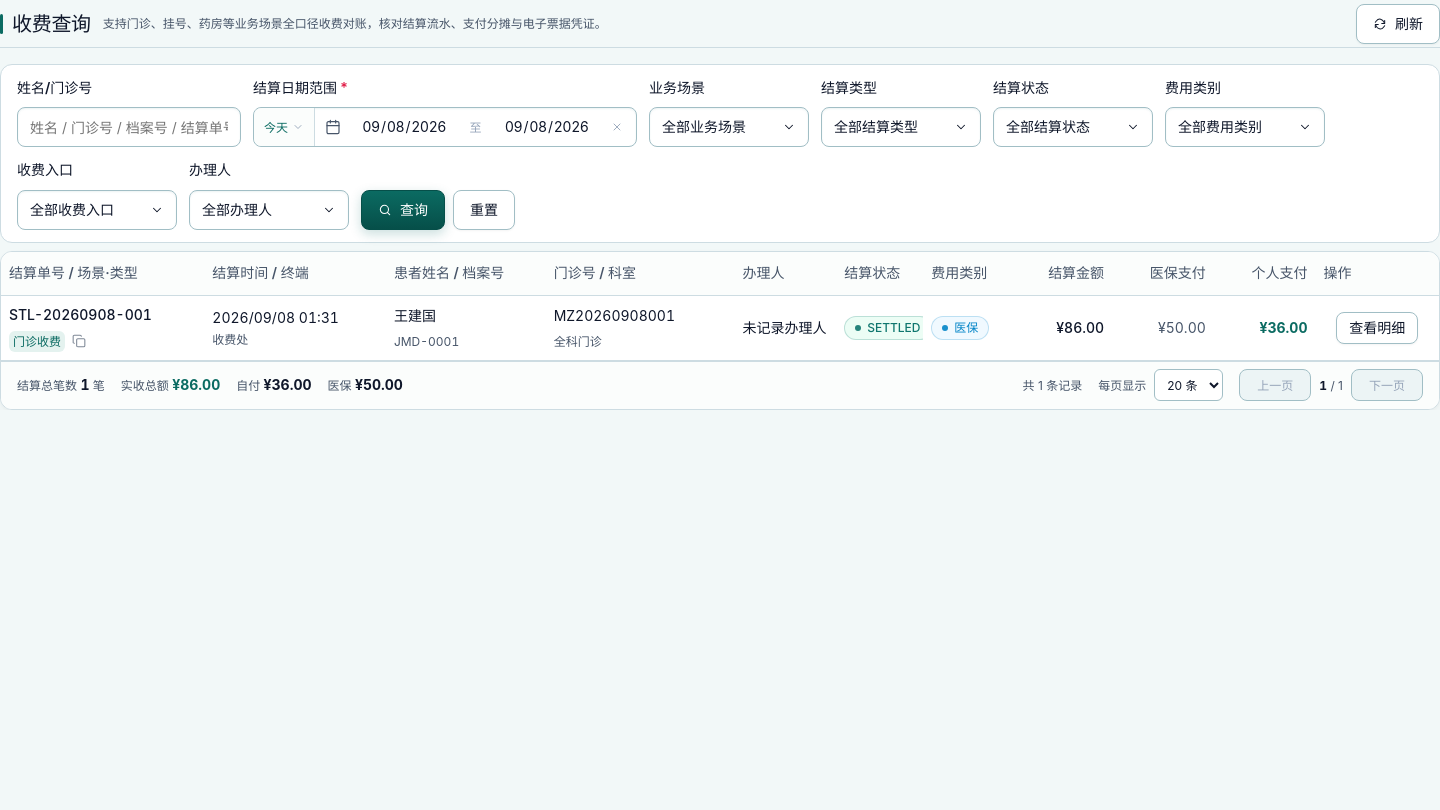
it: BillingQueryWorkspace › distinguishes settlement query failure from empty financial detail
What coordinates should you click on to do the following:
click the button with aria-label "结算记录 STL-20260908-001"
I would click on:
 (80, 315)
Its box is [1,296,1439,360].
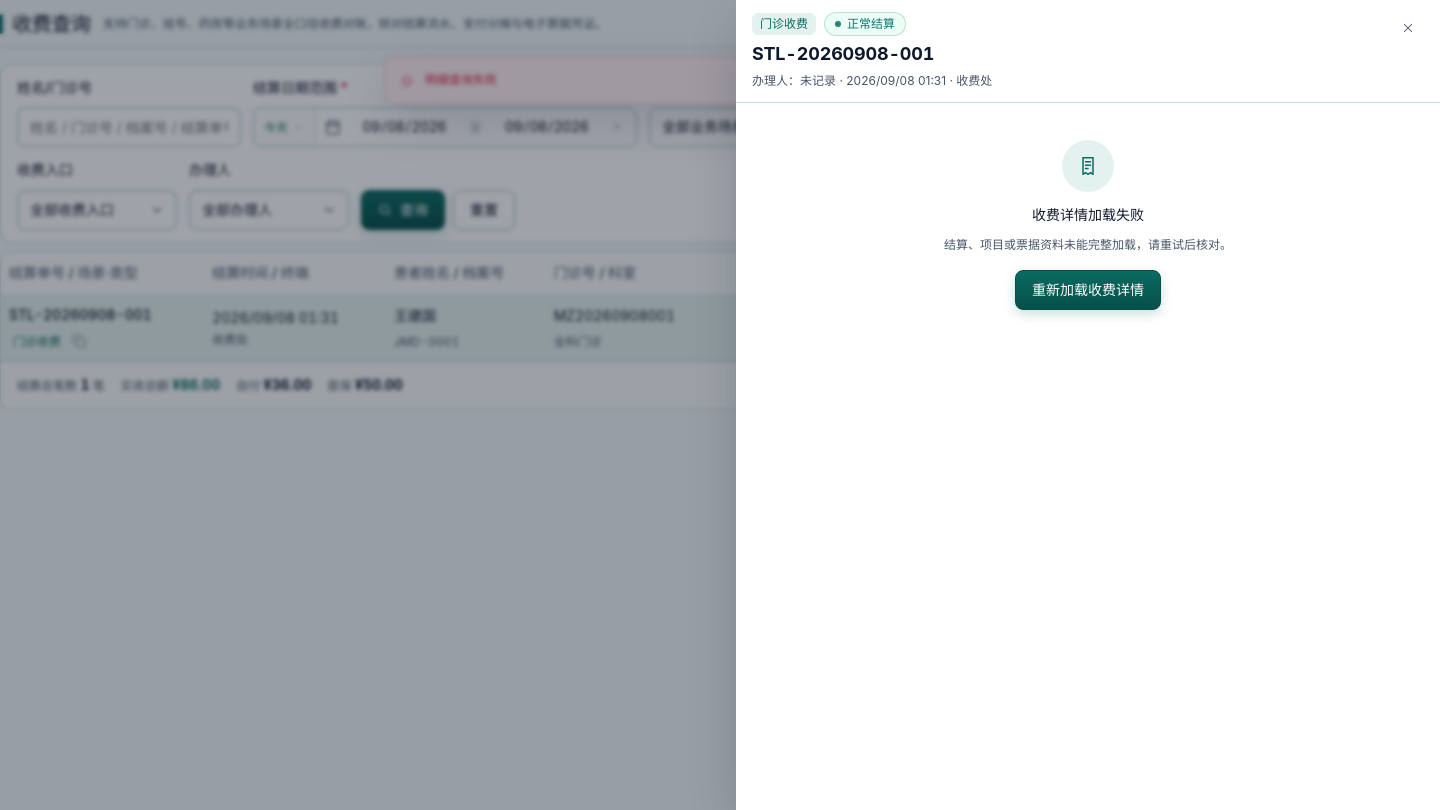
Now the text "收费详情加载失败" is shown, box [1032,204,1144,227]
